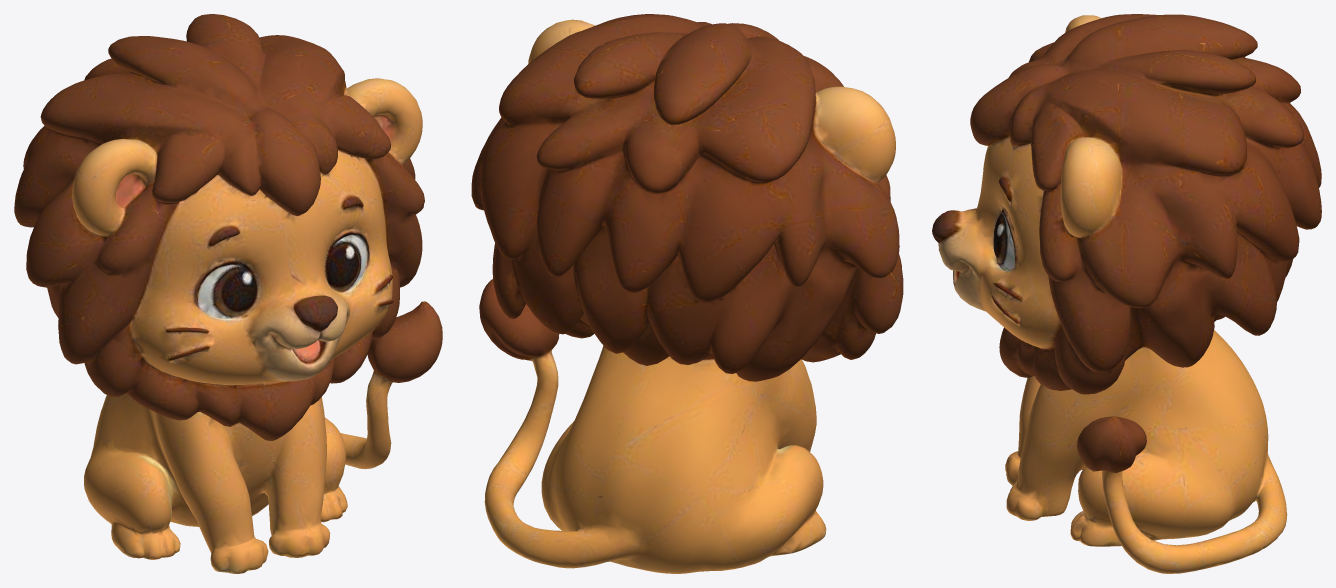
The picture shows the model from 3 angles, left to right: view 1: azimuth 30°, elevation 25°; view 2: azimuth 150°, elevation 25°; view 3: azimuth 270°, elevation 25°; orthographic projection. The views are drawn at different scales.
Size of the model in its own units: 1.68 by 1.9 by 1.45.
1 material, 1 textured.
